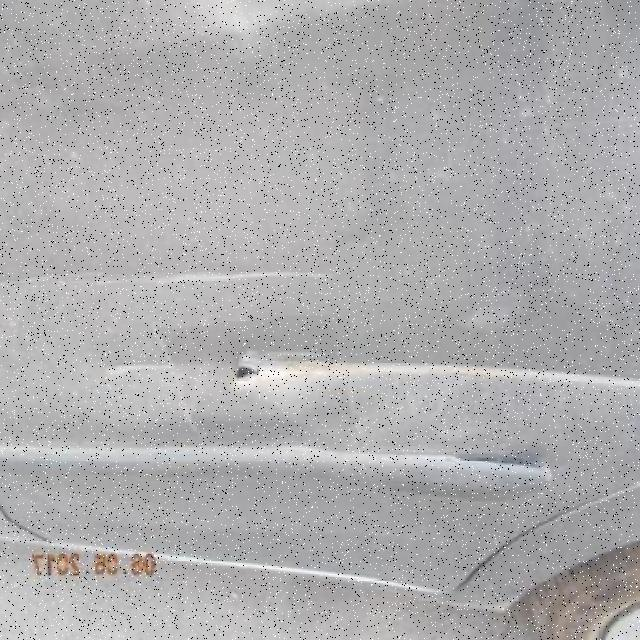damage: (222, 339, 638, 401), (0, 263, 335, 295), (99, 352, 210, 383), (229, 362, 258, 387)
